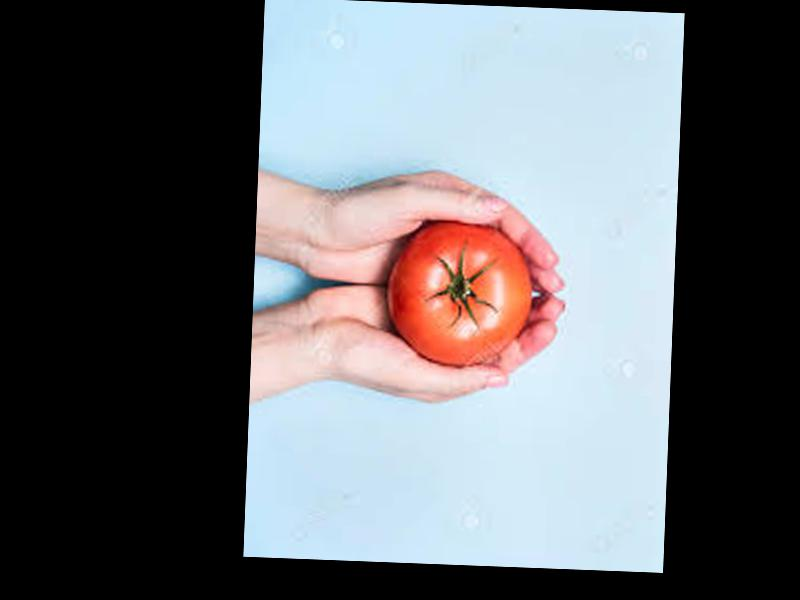Tomato: (386, 215, 534, 368)
